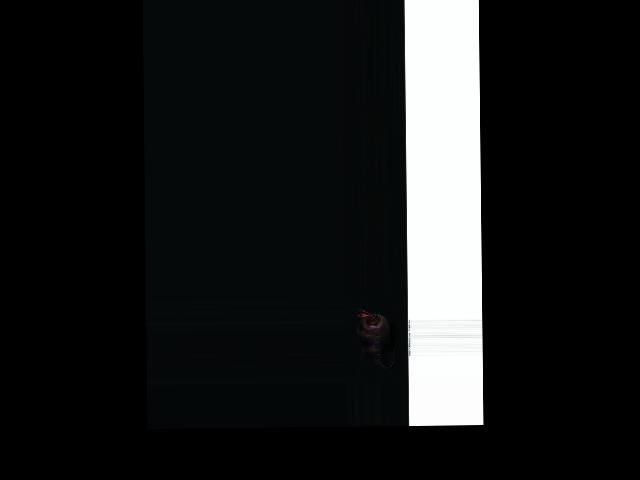beet: (356, 306, 398, 368)
